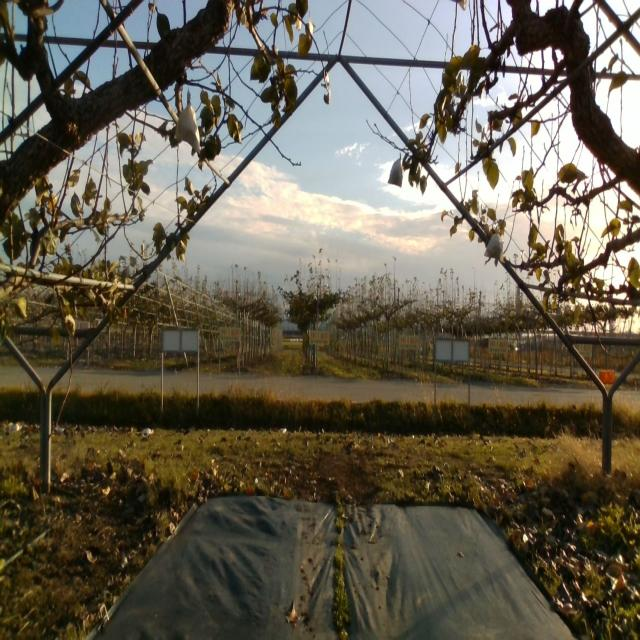pearbags: (175, 93, 202, 152), (484, 230, 503, 264), (388, 151, 404, 188)
